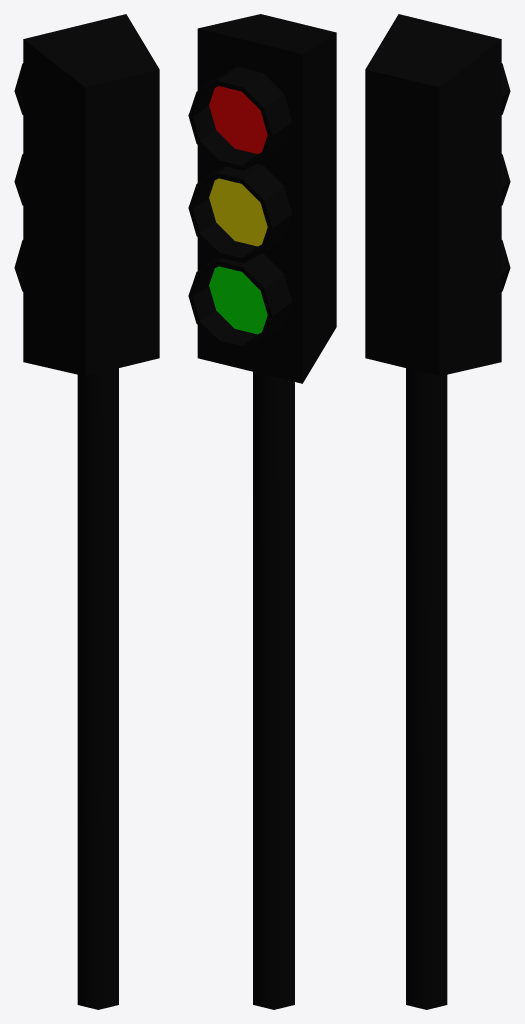
Rendered from TrafficLight.fbx.
The picture shows the model from 3 angles, left to right: view 1: azimuth 30°, elevation 25°; view 2: azimuth 150°, elevation 25°; view 3: azimuth 330°, elevation 25°; orthographic projection. The views are drawn at different scales.
Visible parts, largest first — view 1: Body, Body1; view 2: Body, Body1, Light (×3), RedLight, YellowLight, GreenLight; view 3: Body, Body1.
Boxes of the visible parts, box(x1,y1,x2,y2) form: Body: box(23, 14, 159, 376); Body1: box(77, 368, 118, 1009); Body: box(197, 14, 336, 383); Body1: box(253, 372, 294, 1009); Light (×3): box(209, 86, 267, 334); RedLight: box(188, 66, 291, 170); YellowLight: box(188, 164, 291, 263); GreenLight: box(188, 253, 291, 350); Body: box(365, 14, 501, 376); Body1: box(406, 368, 447, 1009).
Size of the model in its own units: 40 by 355 by 44.99.
